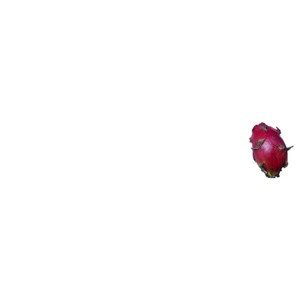pitaia: (250, 123, 291, 179)
